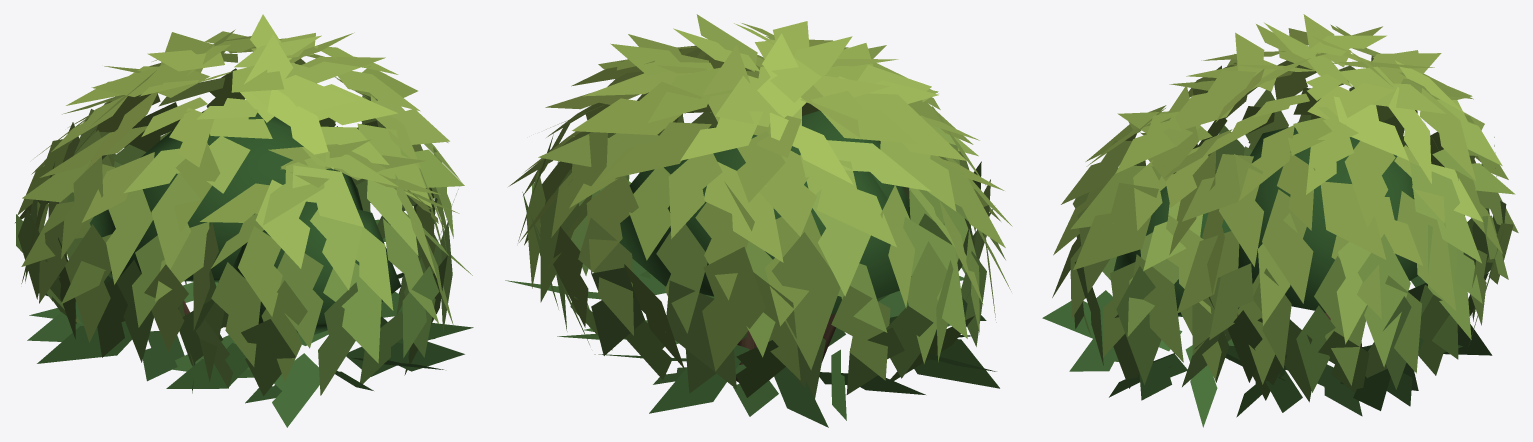
Rendered from dome_bush_1.glb.
The picture shows the model from 3 angles, left to right: view 1: azimuth 30°, elevation 25°; view 2: azimuth 150°, elevation 25°; view 3: azimuth 270°, elevation 25°; orthographic projection. The views are drawn at different scales.
Visible parts, largest first — view 1: dome_bush_1; view 2: dome_bush_1; view 3: dome_bush_1.
Boxes of the visible parts, left/top/right/bottom form: dome_bush_1: left=15, top=14, right=473, bottom=427; dome_bush_1: left=505, top=14, right=1012, bottom=427; dome_bush_1: left=1042, top=14, right=1518, bottom=427.
Bounding box in the file's own units: 1.6 × 1.1 × 1.5.
2 materials, 2 textured.
